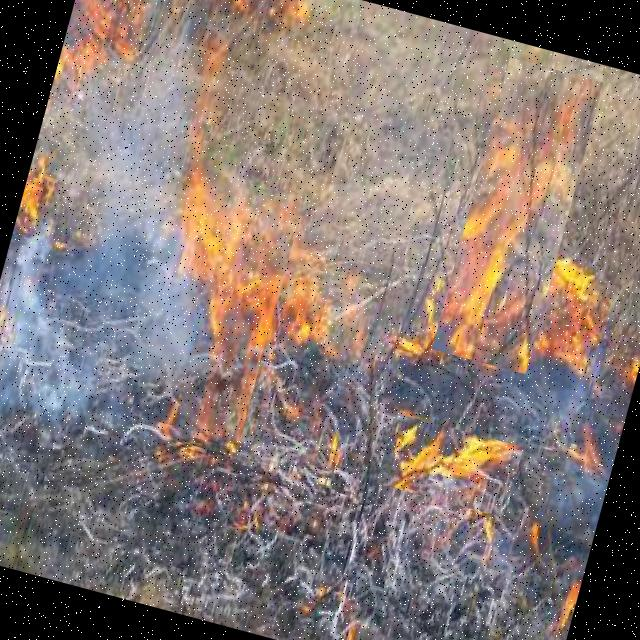fire: (432, 57, 604, 374), (129, 166, 305, 443), (376, 412, 523, 518)
